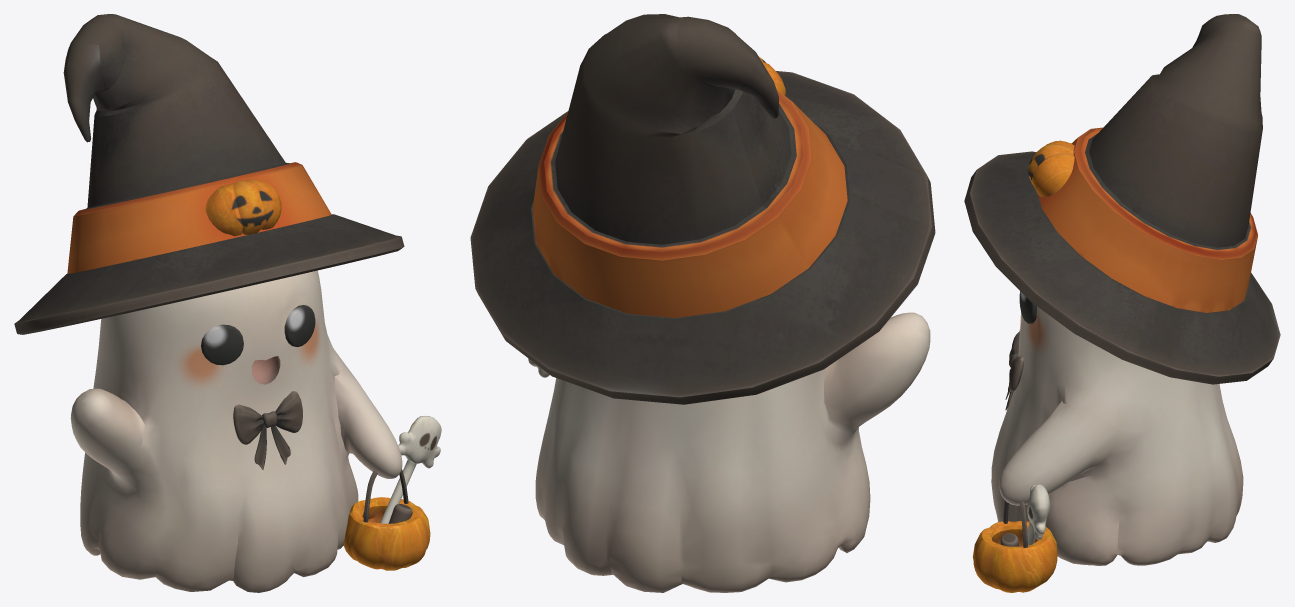
File: Ghost_07.gltf
3 views of the same model, side by side, from view 1: azimuth 30°, elevation 25°; view 2: azimuth 150°, elevation 25°; view 3: azimuth 270°, elevation 25° (orthographic). The views are drawn at different scales.
Visible parts, largest first — view 1: Cuerpo_low, Gorro_low, Canasta_low, Moño_low, Ojos_low, AdornoCalavera_low; view 2: Gorro_low, Cuerpo_low; view 3: Gorro_low, Cuerpo_low, Canasta_low, AdornoCalavera_low, Moño_low.
Boxes of the visible parts, left/top/right/bottom form: Cuerpo_low: left=70, top=270, right=402, bottom=592; Gorro_low: left=14, top=14, right=404, bottom=334; Canasta_low: left=343, top=469, right=430, bottom=570; Moño_low: left=233, top=391, right=302, bottom=469; Ojos_low: left=201, top=305, right=315, bottom=365; AdornoCalavera_low: left=380, top=415, right=441, bottom=523; Gorro_low: left=470, top=14, right=935, bottom=404; Cuerpo_low: left=535, top=312, right=930, bottom=592; Gorro_low: left=964, top=14, right=1280, bottom=384; Cuerpo_low: left=991, top=306, right=1243, bottom=565; Canasta_low: left=973, top=500, right=1057, bottom=592; AdornoCalavera_low: left=1027, top=484, right=1050, bottom=545; Moño_low: left=1005, top=331, right=1023, bottom=410.
Bounding box in the file's own units: 1.37 × 1.79 × 1.05.
2 materials, 2 textured.
